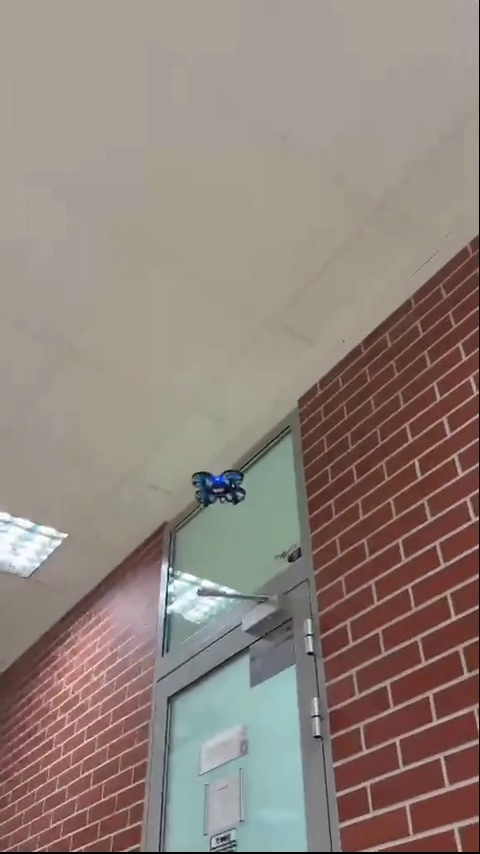drone: (189, 466, 251, 512)
